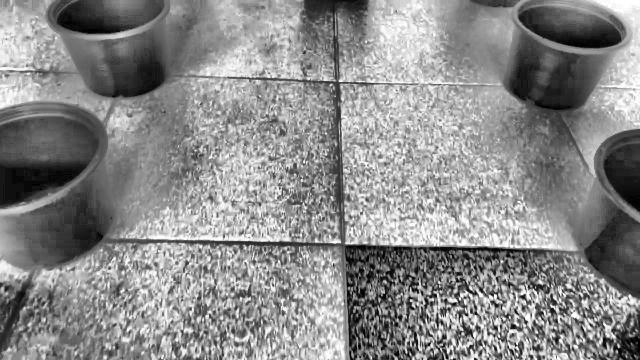pot: (0, 102, 116, 269), (504, 0, 634, 112), (46, 0, 172, 100), (578, 129, 640, 296)
